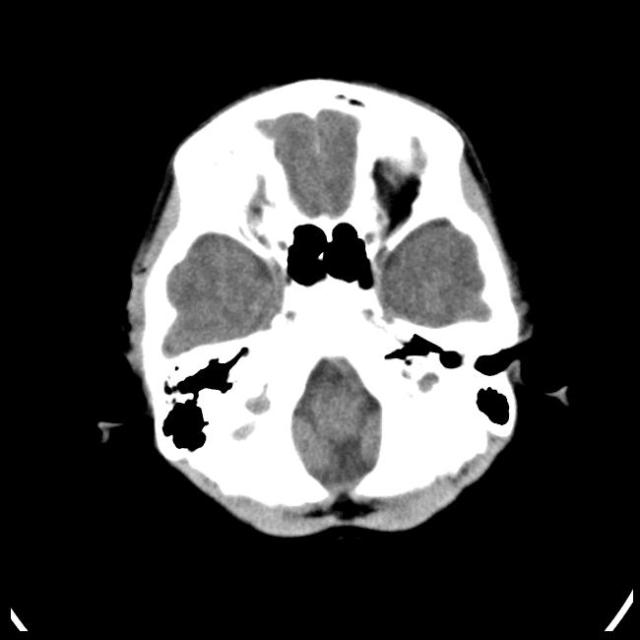lesion: (120, 76, 538, 540)
